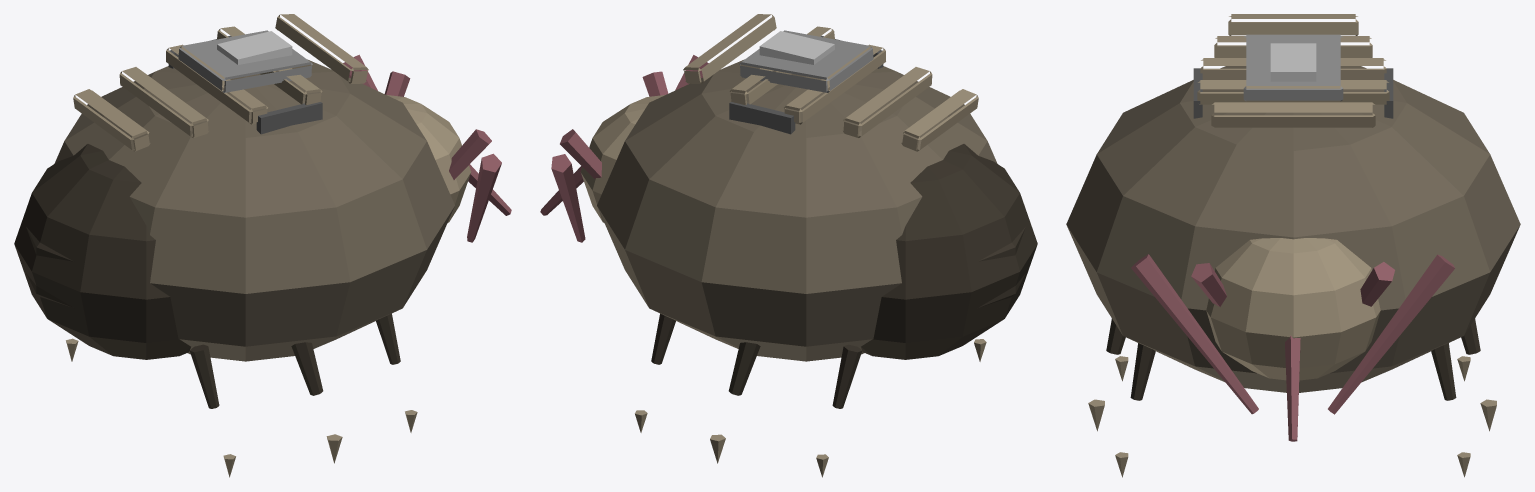
The model's file is bl_tender.glb.
The picture shows the model from 3 angles, left to right: view 1: azimuth 30°, elevation 25°; view 2: azimuth 150°, elevation 25°; view 3: azimuth 270°, elevation 25°; orthographic projection. The views are drawn at different scales.
Visible parts, largest first — view 1: body, leg_3_b, leg_1_a, leg_5_a; view 2: body, leg_2_a, leg_0_b, leg_4_b; view 3: body, leg_5_a, leg_4_b, leg_2_a, leg_3_b.
Boxes of the visible parts, left/top/right/bottom form: body: left=14, top=14, right=511, bottom=361; leg_3_b: left=291, top=342, right=342, bottom=463; leg_1_a: left=189, top=344, right=235, bottom=477; leg_5_a: left=376, top=313, right=417, bottom=432; body: left=540, top=14, right=1037, bottom=361; leg_2_a: left=710, top=342, right=760, bottom=463; leg_0_b: left=816, top=344, right=862, bottom=477; leg_4_b: left=635, top=313, right=675, bottom=432; body: left=1066, top=14, right=1520, bottom=441; leg_5_a: left=1115, top=343, right=1155, bottom=477; leg_4_b: left=1431, top=343, right=1470, bottom=477; leg_2_a: left=1461, top=319, right=1496, bottom=431; leg_3_b: left=1088, top=319, right=1125, bottom=431.
Size of the model in its own units: 25.1 by 17.52 by 19.
